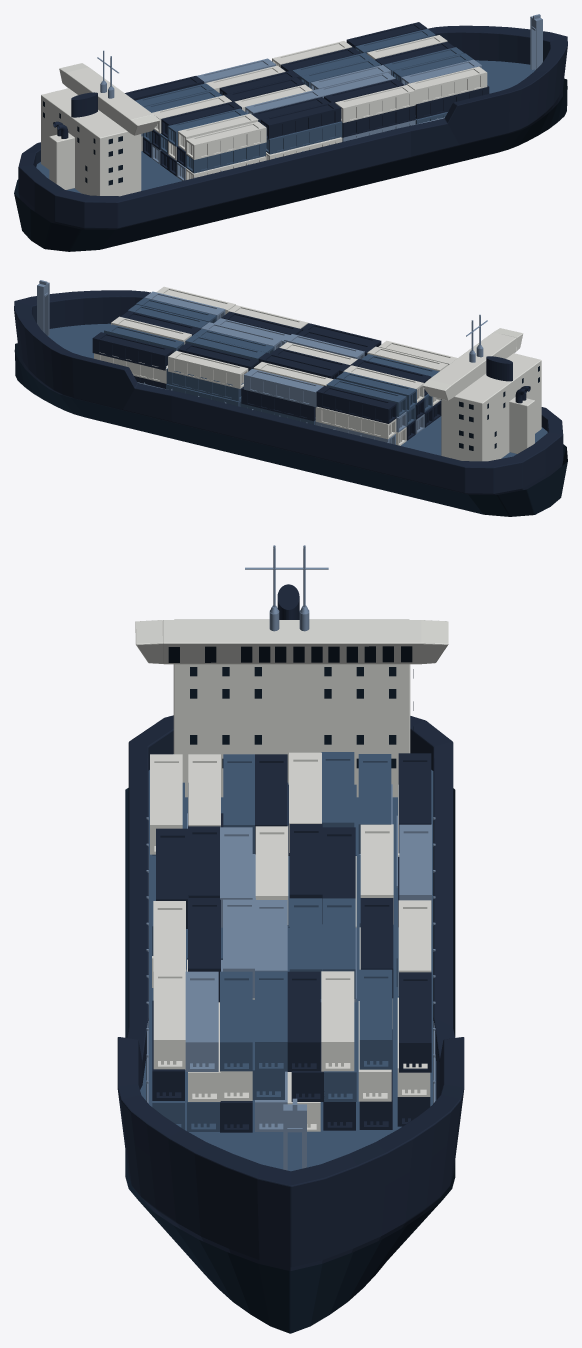
Rendered from container-ship.glb.
The picture shows the model from 3 angles, top to bottom: view 1: azimuth 30°, elevation 25°; view 2: azimuth 150°, elevation 25°; view 3: azimuth 270°, elevation 25°; orthographic projection. The views are drawn at different scales.
Parts seen in each view (by area): view 1: DUANOR Container Ship · Sketlux CC0 adaptation; view 2: DUANOR Container Ship · Sketlux CC0 adaptation; view 3: DUANOR Container Ship · Sketlux CC0 adaptation.
Part boxes in pixels (<box>): DUANOR Container Ship · Sketlux CC0 adaptation: <box>14,14,567,251</box>; DUANOR Container Ship · Sketlux CC0 adaptation: <box>14,280,567,516</box>; DUANOR Container Ship · Sketlux CC0 adaptation: <box>117,545,464,1333</box>.
Bounding box in the file's own units: 12 × 3.76 × 3.36.
